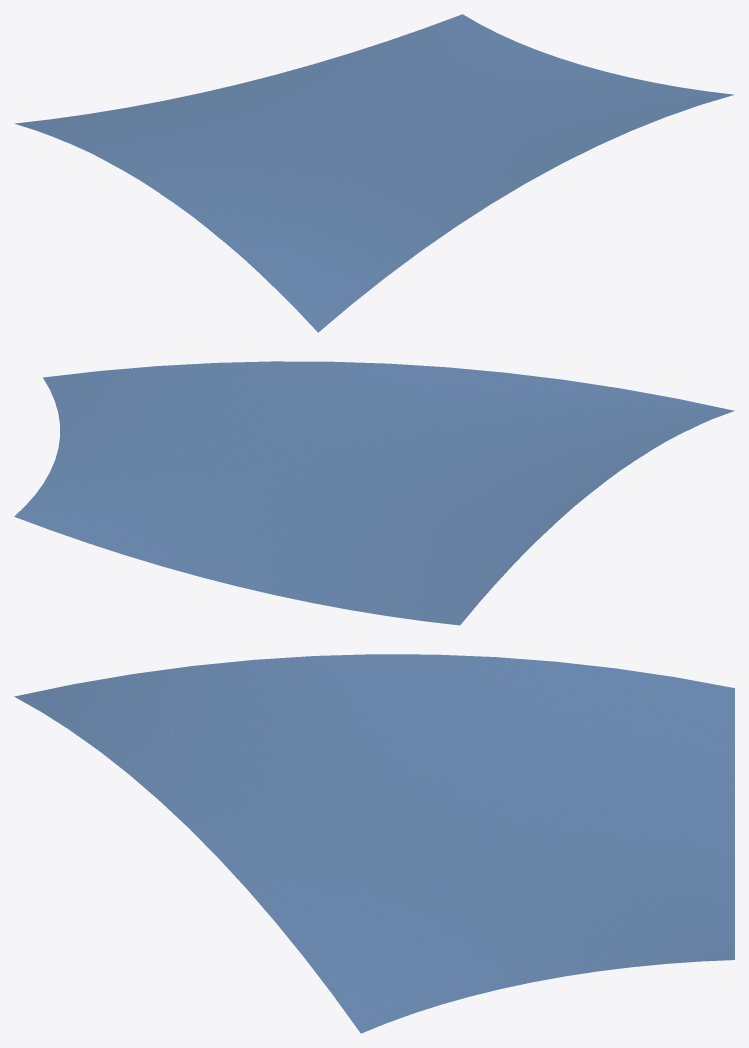
The model's file is BlueShade.gltf.
The picture shows the model from 3 angles, top to bottom: view 1: azimuth 30°, elevation 25°; view 2: azimuth 150°, elevation 25°; view 3: azimuth 270°, elevation 25°; orthographic projection. The views are drawn at different scales.
Visible parts, largest first — view 1: node1; view 2: node1; view 3: node1.
Boxes of the visible parts, box(x1,y1,x2,y2) form: node1: box(15, 14, 734, 332); node1: box(14, 361, 734, 625); node1: box(14, 654, 734, 1033).
Bounding box in the file's own units: 11.84 × 0.9144 × 10.44.
